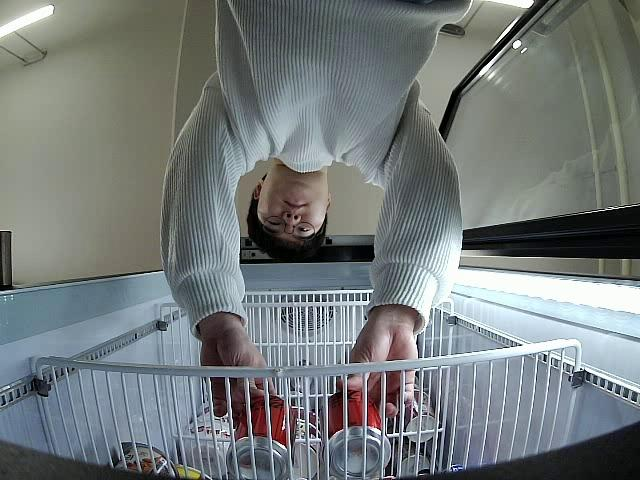00_hand: (341, 324, 418, 421), (199, 334, 277, 419)
11_cocaColaZero: (317, 391, 392, 479), (226, 393, 296, 480)
